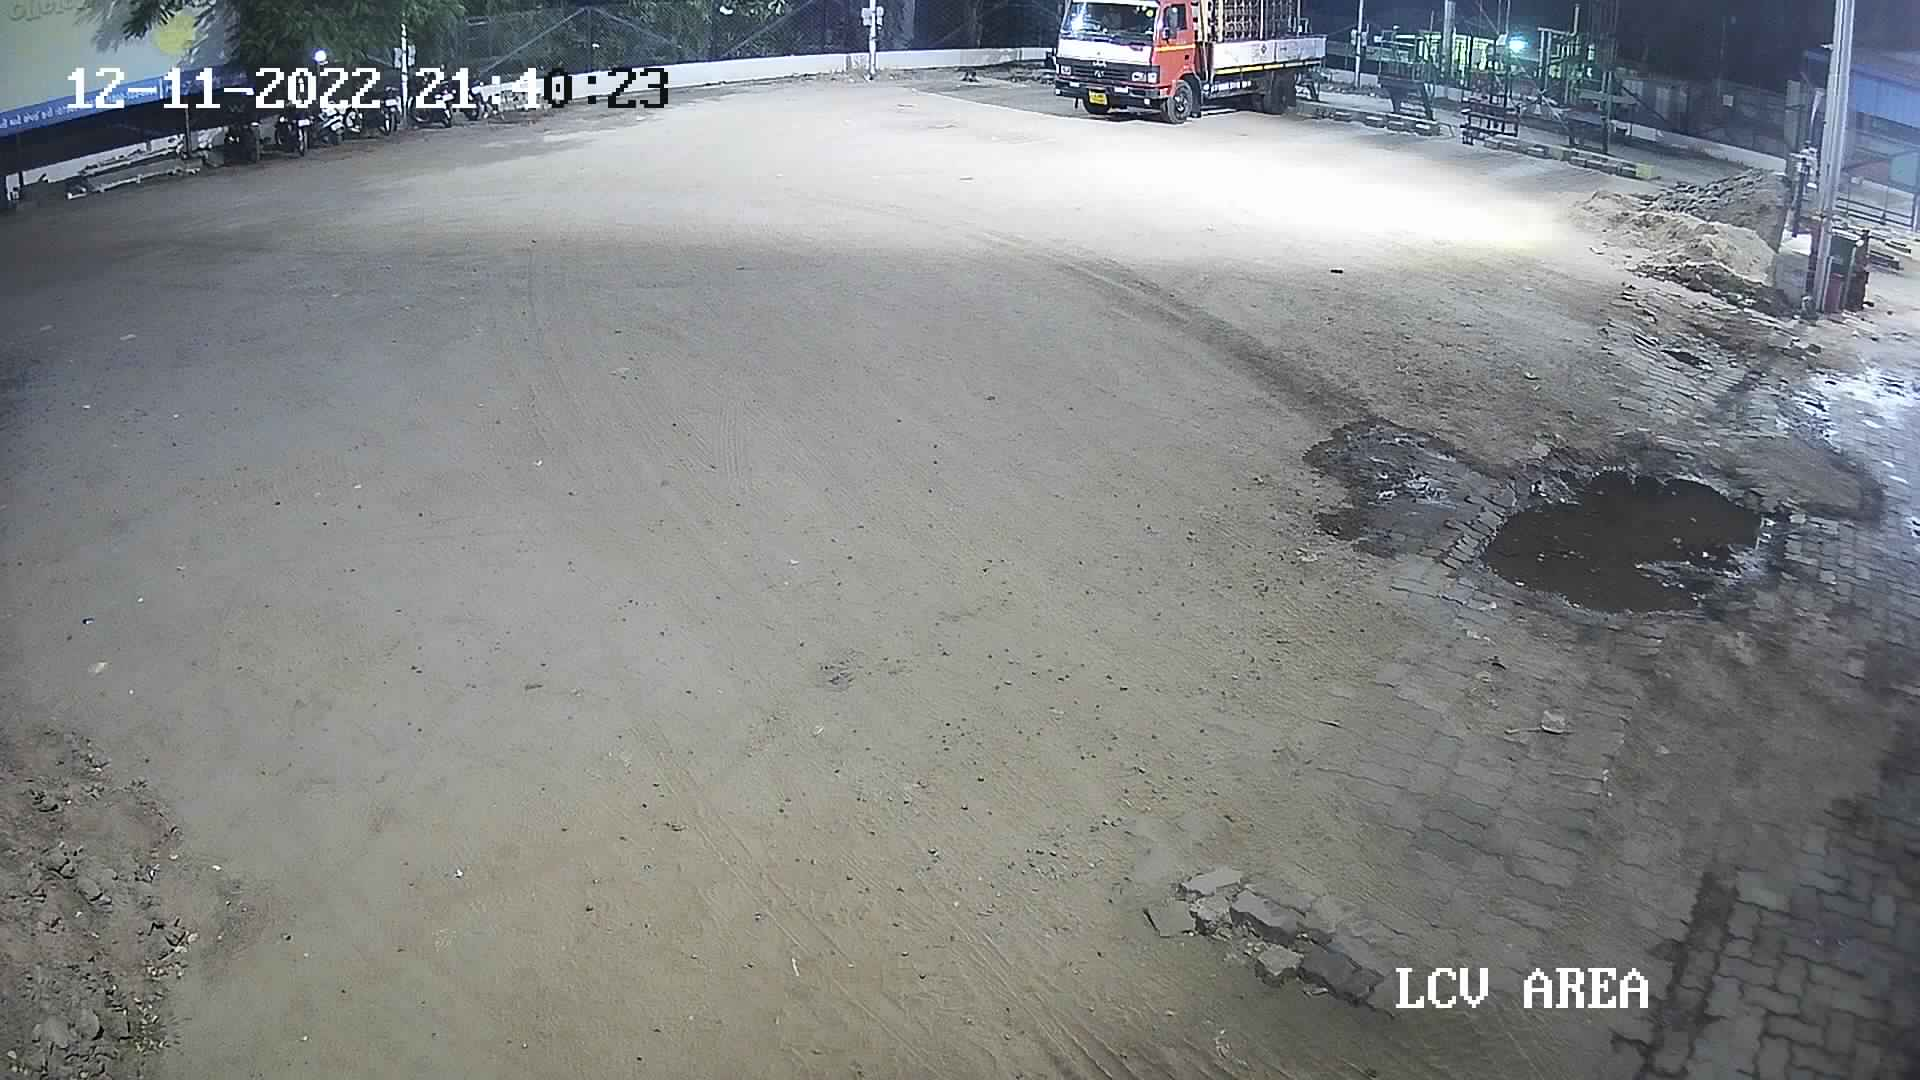HMV: (1040, 0, 1349, 128)
